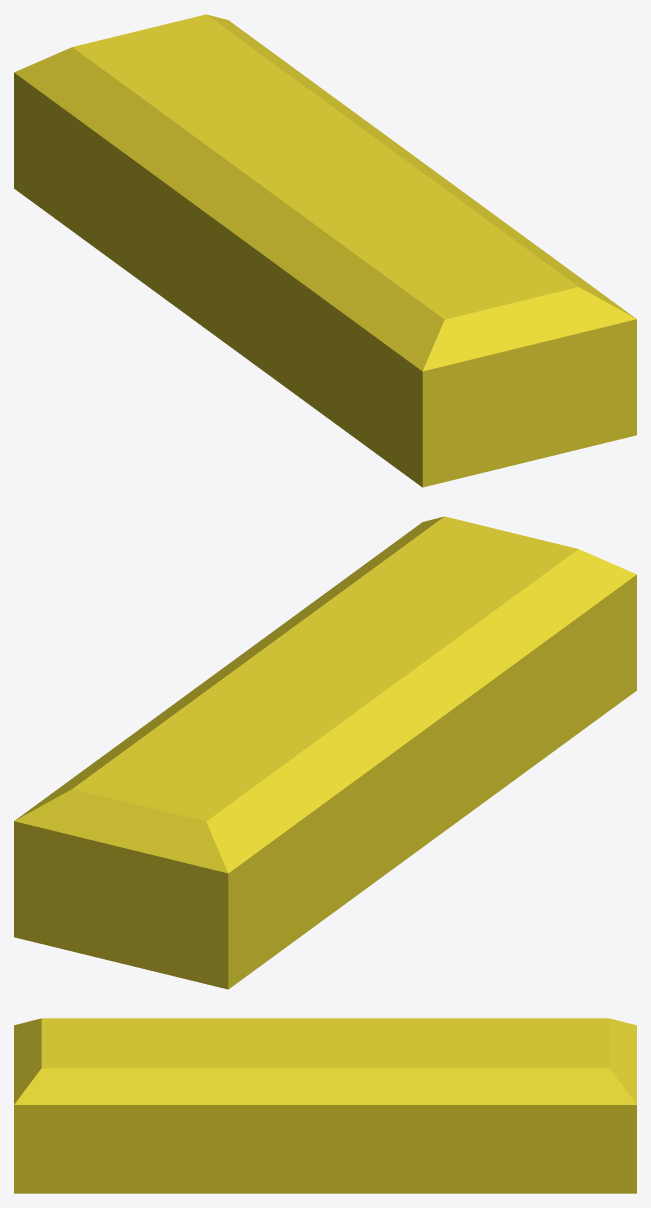
File: Gold.fbx
The picture shows the model from 3 angles, top to bottom: view 1: azimuth 30°, elevation 25°; view 2: azimuth 150°, elevation 25°; view 3: azimuth 270°, elevation 25°; orthographic projection. The views are drawn at different scales.
Visible parts, largest first — view 1: Cube; view 2: Cube; view 3: Cube.
Boxes of the visible parts, left/top/right/bottom form: Cube: left=14, top=14, right=636, bottom=487; Cube: left=14, top=516, right=636, bottom=989; Cube: left=14, top=1018, right=636, bottom=1193.
Bounding box in the file's own units: 200 × 129 × 660.
